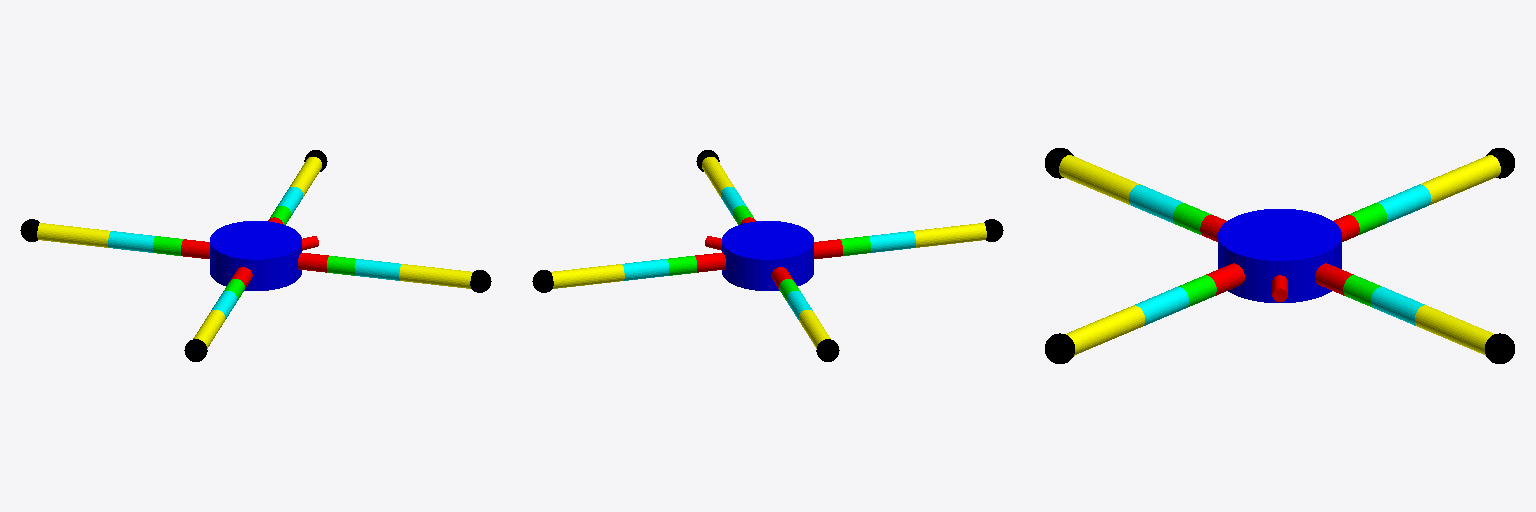
robot.urdf — quadruped:

<robot name="quadruped">

  <link name="body">
    <visual>
      <geometry>
        <cylinder radius="0.08" length="0.06"/>
      </geometry>
      <origin xyz="0 0 0"/>
      <material name="blue">
        <color rgba="0 0 1 1"/>
      </material>
    </visual>
    <collision>
      <geometry>
        <cylinder radius="0.08" length="0.06"/>
      </geometry>
      <origin xyz="0 0 0"/>
    </collision>
    <inertial>
      <mass value="0.01"/>
      <inertia ixx="0.0001" ixy="0.0" ixz="0.0" iyy="0.0001" iyz="0.0" izz="0.0001"/>
    </inertial>
  </link>


    <link name="h0">
    <visual>
      <geometry>
        <cylinder radius="0.01" length="0.12"/>
      </geometry>
      <origin rpy="0 1.5707963267948966 0" xyz="0.06 0  0" />
      <material name="red">
        <color rgba="1 0 0 1"/>
      </material>
    </visual>
    <collision>
      <geometry>
        <cylinder radius="0.01" length="0.12"/>
      </geometry>
      <origin rpy="0 1.5707963267948966 0" xyz="0.06 0 0" />
    </collision>
    <inertial>
      <mass value="0.1"/>
      <inertia ixx="0.0001" ixy="0.0" ixz="0.0" iyy="0.0001" iyz="0.0" izz="0.0001"/>
    </inertial>
  </link>

  <joint name="h0_to_body" type="fixed">
    <origin rpy="0 0 0" xyz="0 0 0"/>
    <parent link="body"/>
    <child link="h0"/>
  </joint>

  
  <link name="a0">
    <visual>
      <geometry>
        <cylinder radius="0.015" length="0.13"/>
      </geometry>
      <origin rpy="0 1.5707963267948966 0" xyz="0.065 0  0" />
      <material name="red">
        <color rgba="1 0 0 1"/>
      </material>
    </visual>
    <collision>
      <geometry>
        <cylinder radius="0.015" length="0.13"/>
      </geometry>
      <origin rpy="0 1.5707963267948966 0" xyz="0.065 0 0" />
    </collision>
    <inertial>
      <mass value="0.1"/>
      <inertia ixx="0.0001" ixy="0.0" ixz="0.0" iyy="0.0001" iyz="0.0" izz="0.0001"/>
    </inertial>
  </link>

  <joint name="a0_to_body" type="fixed">
    <origin rpy="0 0 0.7853981633974483" xyz="0 0 0"/>
    <parent link="body"/>
    <child link="a0"/>
  </joint>

  <!-- B -->

  <link name="b0">
    <visual>
      <geometry>
        <cylinder radius="0.015" length="0.05"/>
      </geometry>
      <origin rpy="0 1.5707963267948966 0" xyz="0.025 0 0" />
      <material name="green">
        <color rgba="0 1 0 1"/>
      </material>
    </visual>
    <collision>
      <geometry>
        <cylinder radius="0.015" length="0.05"/>
      </geometry>
      <origin rpy="0 1.5707963267948966 0" xyz="0.025 0 0" />
    </collision>
    <inertial>
      <mass value="0.1"/>
      <inertia ixx="0.0001" ixy="0.0" ixz="0.0" iyy="0.0001" iyz="0.0" izz="0.0001"/>
    </inertial>

  </link>

  <joint name="u0" type="revolute">
    <origin rpy="0 0 0" xyz="0.13 0 0"/>
    <parent link="a0"/>
    <child link="b0"/>
    <axis xyz="0 0 1"/>
    <limit effort="100" lower="-3.14" upper="3.14"  velocity="100"/>
  </joint>

  <link name="c0">
    <visual>
      <geometry>
        <cylinder radius="0.015" length="0.08"/>
      </geometry>
      <origin rpy="0 1.5707963267948966 0" xyz="0.04 0 0" />
      <material name="cyan">
        <color rgba="0 1 1 1"/>
      </material>
    </visual>
    <collision>
      <geometry>
        <cylinder radius="0.015" length="0.08"/>
      </geometry>
      <origin rpy="0 1.5707963267948966 0" xyz="0.04 0 0" />
    </collision>
    <inertial>
      <mass value="0.1"/>
      <inertia ixx="0.0001" ixy="0.0" ixz="0.0" iyy="0.0001" iyz="0.0" izz="0.0001"/>
    </inertial>

  </link>

  <joint name="v0" type="revolute">
    <origin rpy="0 0 0" xyz="0.05 0 0"/>
    <parent link="b0"/>
    <child link="c0"/>
    <axis xyz="0 1 0"/>
    <limit effort="100" lower="-3.14" upper="3.14"  velocity="100"/>
  </joint>

  <link name="d0">
    <visual>
      <geometry>
        <cylinder radius="0.015" length="0.14"/>
      </geometry>
      <origin rpy="0 1.5707963267948966 0" xyz="0.07 0 0" />
      <material name="jaune">
        <color rgba="1 1 0 1"/>
      </material>
    </visual>
    <collision>
      <geometry>
        <cylinder radius="0.015" length="0.14"/>
      </geometry>
      <origin rpy="0 1.5707963267948966 0" xyz="0.07 0 0" />
    </collision>
    <inertial>
      <mass value="0.1"/>
      <inertia ixx="0.0001" ixy="0.0" ixz="0.0" iyy="0.0001" iyz="0.0" izz="0.0001"/>
    </inertial>

  </link>

  <joint name="w0" type="revolute">
    <origin rpy="0 0 0" xyz="0.08 0 0"/>
    <parent link="c0"/>
    <child link="d0"/>
    <axis xyz="0 1 0"/>
    <limit effort="100" lower="-3.14"  upper="3.14"  velocity="100"/>
  </joint>

  <link name="e0">
    <visual>
      <geometry>
        <sphere radius="0.02"/>
      </geometry>
      <origin rpy="0 0 0" xyz="0 0 0" />
      <material name="noir">
        <color rgba="0 0 0 1"/>
      </material>
    </visual>
    <collision>
      <geometry>
        <sphere radius="0.02"/>
      </geometry>
      <origin rpy="0 0 0" xyz="0 0 0" />
    </collision>
    <inertial>
      <mass value="0.01"/>
      <inertia ixx="0.0001" ixy="0.0" ixz="0.0" iyy="0.0001" iyz="0.0" izz="0.0001"/>
    </inertial>

  </link>

  <joint name="x0" type="fixed">
    <origin rpy="0 0 0" xyz="0.14 0 0"/>
    <parent link="d0"/>
    <child link="e0"/>
  </joint>


    <link name="h1">
    <visual>
      <geometry>
        <cylinder radius="0.01" length="0.12"/>
      </geometry>
      <origin rpy="0 1.5707963267948966 0" xyz="0.06 0  0" />
      <material name="red">
        <color rgba="1 0 0 1"/>
      </material>
    </visual>
    <collision>
      <geometry>
        <cylinder radius="0.01" length="0.12"/>
      </geometry>
      <origin rpy="0 1.5707963267948966 0" xyz="0.06 0 0" />
    </collision>
    <inertial>
      <mass value="0.1"/>
      <inertia ixx="0.0001" ixy="0.0" ixz="0.0" iyy="0.0001" iyz="0.0" izz="0.0001"/>
    </inertial>
  </link>

  <joint name="h1_to_body" type="fixed">
    <origin rpy="0 0 0" xyz="0 0 0"/>
    <parent link="body"/>
    <child link="h1"/>
  </joint>

  
  <link name="a1">
    <visual>
      <geometry>
        <cylinder radius="0.015" length="0.13"/>
      </geometry>
      <origin rpy="0 1.5707963267948966 0" xyz="0.065 0  0" />
      <material name="red">
        <color rgba="1 0 0 1"/>
      </material>
    </visual>
    <collision>
      <geometry>
        <cylinder radius="0.015" length="0.13"/>
      </geometry>
      <origin rpy="0 1.5707963267948966 0" xyz="0.065 0 0" />
    </collision>
    <inertial>
      <mass value="0.1"/>
      <inertia ixx="0.0001" ixy="0.0" ixz="0.0" iyy="0.0001" iyz="0.0" izz="0.0001"/>
    </inertial>
  </link>

  <joint name="a1_to_body" type="fixed">
    <origin rpy="0 0 2.356194490192345" xyz="0 0 0"/>
    <parent link="body"/>
    <child link="a1"/>
  </joint>

  <!-- B -->

  <link name="b1">
    <visual>
      <geometry>
        <cylinder radius="0.015" length="0.05"/>
      </geometry>
      <origin rpy="0 1.5707963267948966 0" xyz="0.025 0 0" />
      <material name="green">
        <color rgba="0 1 0 1"/>
      </material>
    </visual>
    <collision>
      <geometry>
        <cylinder radius="0.015" length="0.05"/>
      </geometry>
      <origin rpy="0 1.5707963267948966 0" xyz="0.025 0 0" />
    </collision>
    <inertial>
      <mass value="0.1"/>
      <inertia ixx="0.0001" ixy="0.0" ixz="0.0" iyy="0.0001" iyz="0.0" izz="0.0001"/>
    </inertial>

  </link>

  <joint name="u1" type="revolute">
    <origin rpy="0 0 0" xyz="0.13 0 0"/>
    <parent link="a1"/>
    <child link="b1"/>
    <axis xyz="0 0 1"/>
    <limit effort="100" lower="-3.14" upper="3.14"  velocity="100"/>
  </joint>

  <link name="c1">
    <visual>
      <geometry>
        <cylinder radius="0.015" length="0.08"/>
      </geometry>
      <origin rpy="0 1.5707963267948966 0" xyz="0.04 0 0" />
      <material name="cyan">
        <color rgba="0 1 1 1"/>
      </material>
    </visual>
    <collision>
      <geometry>
        <cylinder radius="0.015" length="0.08"/>
      </geometry>
      <origin rpy="0 1.5707963267948966 0" xyz="0.04 0 0" />
    </collision>
    <inertial>
      <mass value="0.1"/>
      <inertia ixx="0.0001" ixy="0.0" ixz="0.0" iyy="0.0001" iyz="0.0" izz="0.0001"/>
    </inertial>

  </link>

  <joint name="v1" type="revolute">
    <origin rpy="0 0 0" xyz="0.05 0 0"/>
    <parent link="b1"/>
    <child link="c1"/>
    <axis xyz="0 1 0"/>
    <limit effort="100" lower="-3.14" upper="3.14"  velocity="100"/>
  </joint>

  <link name="d1">
    <visual>
      <geometry>
        <cylinder radius="0.015" length="0.14"/>
      </geometry>
      <origin rpy="0 1.5707963267948966 0" xyz="0.07 0 0" />
      <material name="jaune">
        <color rgba="1 1 0 1"/>
      </material>
    </visual>
    <collision>
      <geometry>
        <cylinder radius="0.015" length="0.14"/>
      </geometry>
      <origin rpy="0 1.5707963267948966 0" xyz="0.07 0 0" />
    </collision>
    <inertial>
      <mass value="0.1"/>
      <inertia ixx="0.0001" ixy="0.0" ixz="0.0" iyy="0.0001" iyz="0.0" izz="0.0001"/>
    </inertial>

  </link>

  <joint name="w1" type="revolute">
    <origin rpy="0 0 0" xyz="0.08 0 0"/>
    <parent link="c1"/>
    <child link="d1"/>
    <axis xyz="0 1 0"/>
    <limit effort="100" lower="-3.14"  upper="3.14"  velocity="100"/>
  </joint>

  <link name="e1">
    <visual>
      <geometry>
        <sphere radius="0.02"/>
      </geometry>
      <origin rpy="0 0 0" xyz="0 0 0" />
      <material name="noir">
        <color rgba="0 0 0 1"/>
      </material>
    </visual>
    <collision>
      <geometry>
        <sphere radius="0.02"/>
      </geometry>
      <origin rpy="0 0 0" xyz="0 0 0" />
    </collision>
    <inertial>
      <mass value="0.01"/>
      <inertia ixx="0.0001" ixy="0.0" ixz="0.0" iyy="0.0001" iyz="0.0" izz="0.0001"/>
    </inertial>

  </link>

  <joint name="x1" type="fixed">
    <origin rpy="0 0 0" xyz="0.14 0 0"/>
    <parent link="d1"/>
    <child link="e1"/>
  </joint>


    <link name="h2">
    <visual>
      <geometry>
        <cylinder radius="0.01" length="0.12"/>
      </geometry>
      <origin rpy="0 1.5707963267948966 0" xyz="0.06 0  0" />
      <material name="red">
        <color rgba="1 0 0 1"/>
      </material>
    </visual>
    <collision>
      <geometry>
        <cylinder radius="0.01" length="0.12"/>
      </geometry>
      <origin rpy="0 1.5707963267948966 0" xyz="0.06 0 0" />
    </collision>
    <inertial>
      <mass value="0.1"/>
      <inertia ixx="0.0001" ixy="0.0" ixz="0.0" iyy="0.0001" iyz="0.0" izz="0.0001"/>
    </inertial>
  </link>

  <joint name="h2_to_body" type="fixed">
    <origin rpy="0 0 0" xyz="0 0 0"/>
    <parent link="body"/>
    <child link="h2"/>
  </joint>

  
  <link name="a2">
    <visual>
      <geometry>
        <cylinder radius="0.015" length="0.13"/>
      </geometry>
      <origin rpy="0 1.5707963267948966 0" xyz="0.065 0  0" />
      <material name="red">
        <color rgba="1 0 0 1"/>
      </material>
    </visual>
    <collision>
      <geometry>
        <cylinder radius="0.015" length="0.13"/>
      </geometry>
      <origin rpy="0 1.5707963267948966 0" xyz="0.065 0 0" />
    </collision>
    <inertial>
      <mass value="0.1"/>
      <inertia ixx="0.0001" ixy="0.0" ixz="0.0" iyy="0.0001" iyz="0.0" izz="0.0001"/>
    </inertial>
  </link>

  <joint name="a2_to_body" type="fixed">
    <origin rpy="0 0 3.9269908169872414" xyz="0 0 0"/>
    <parent link="body"/>
    <child link="a2"/>
  </joint>

  <!-- B -->

  <link name="b2">
    <visual>
      <geometry>
        <cylinder radius="0.015" length="0.05"/>
      </geometry>
      <origin rpy="0 1.5707963267948966 0" xyz="0.025 0 0" />
      <material name="green">
        <color rgba="0 1 0 1"/>
      </material>
    </visual>
    <collision>
      <geometry>
        <cylinder radius="0.015" length="0.05"/>
      </geometry>
      <origin rpy="0 1.5707963267948966 0" xyz="0.025 0 0" />
    </collision>
    <inertial>
      <mass value="0.1"/>
      <inertia ixx="0.0001" ixy="0.0" ixz="0.0" iyy="0.0001" iyz="0.0" izz="0.0001"/>
    </inertial>

  </link>

  <joint name="u2" type="revolute">
    <origin rpy="0 0 0" xyz="0.13 0 0"/>
    <parent link="a2"/>
    <child link="b2"/>
    <axis xyz="0 0 1"/>
    <limit effort="100" lower="-3.14" upper="3.14"  velocity="100"/>
  </joint>

  <link name="c2">
    <visual>
      <geometry>
        <cylinder radius="0.015" length="0.08"/>
      </geometry>
      <origin rpy="0 1.5707963267948966 0" xyz="0.04 0 0" />
      <material name="cyan">
        <color rgba="0 1 1 1"/>
      </material>
    </visual>
    <collision>
      <geometry>
        <cylinder radius="0.015" length="0.08"/>
      </geometry>
      <origin rpy="0 1.5707963267948966 0" xyz="0.04 0 0" />
    </collision>
    <inertial>
      <mass value="0.1"/>
      <inertia ixx="0.0001" ixy="0.0" ixz="0.0" iyy="0.0001" iyz="0.0" izz="0.0001"/>
    </inertial>

  </link>

  <joint name="v2" type="revolute">
    <origin rpy="0 0 0" xyz="0.05 0 0"/>
    <parent link="b2"/>
    <child link="c2"/>
    <axis xyz="0 1 0"/>
    <limit effort="100" lower="-3.14" upper="3.14"  velocity="100"/>
  </joint>

  <link name="d2">
    <visual>
      <geometry>
        <cylinder radius="0.015" length="0.14"/>
      </geometry>
      <origin rpy="0 1.5707963267948966 0" xyz="0.07 0 0" />
      <material name="jaune">
        <color rgba="1 1 0 1"/>
      </material>
    </visual>
    <collision>
      <geometry>
        <cylinder radius="0.015" length="0.14"/>
      </geometry>
      <origin rpy="0 1.5707963267948966 0" xyz="0.07 0 0" />
    </collision>
    <inertial>
      <mass value="0.1"/>
      <inertia ixx="0.0001" ixy="0.0" ixz="0.0" iyy="0.0001" iyz="0.0" izz="0.0001"/>
    </inertial>

  </link>

  <joint name="w2" type="revolute">
    <origin rpy="0 0 0" xyz="0.08 0 0"/>
    <parent link="c2"/>
    <child link="d2"/>
    <axis xyz="0 1 0"/>
    <limit effort="100" lower="-3.14"  upper="3.14"  velocity="100"/>
  </joint>

  <link name="e2">
    <visual>
      <geometry>
        <sphere radius="0.02"/>
      </geometry>
      <origin rpy="0 0 0" xyz="0 0 0" />
      <material name="noir">
        <color rgba="0 0 0 1"/>
      </material>
    </visual>
    <collision>
      <geometry>
        <sphere radius="0.02"/>
      </geometry>
      <origin rpy="0 0 0" xyz="0 0 0" />
    </collision>
    <inertial>
      <mass value="0.01"/>
      <inertia ixx="0.0001" ixy="0.0" ixz="0.0" iyy="0.0001" iyz="0.0" izz="0.0001"/>
    </inertial>

  </link>

  <joint name="x2" type="fixed">
    <origin rpy="0 0 0" xyz="0.14 0 0"/>
    <parent link="d2"/>
    <child link="e2"/>
  </joint>


    <link name="h3">
    <visual>
      <geometry>
        <cylinder radius="0.01" length="0.12"/>
      </geometry>
      <origin rpy="0 1.5707963267948966 0" xyz="0.06 0  0" />
      <material name="red">
        <color rgba="1 0 0 1"/>
      </material>
    </visual>
    <collision>
      <geometry>
        <cylinder radius="0.01" length="0.12"/>
      </geometry>
      <origin rpy="0 1.5707963267948966 0" xyz="0.06 0 0" />
    </collision>
    <inertial>
      <mass value="0.1"/>
      <inertia ixx="0.0001" ixy="0.0" ixz="0.0" iyy="0.0001" iyz="0.0" izz="0.0001"/>
    </inertial>
  </link>

  <joint name="h3_to_body" type="fixed">
    <origin rpy="0 0 0" xyz="0 0 0"/>
    <parent link="body"/>
    <child link="h3"/>
  </joint>

  
  <link name="a3">
    <visual>
      <geometry>
        <cylinder radius="0.015" length="0.13"/>
      </geometry>
      <origin rpy="0 1.5707963267948966 0" xyz="0.065 0  0" />
      <material name="red">
        <color rgba="1 0 0 1"/>
      </material>
    </visual>
    <collision>
      <geometry>
        <cylinder radius="0.015" length="0.13"/>
      </geometry>
      <origin rpy="0 1.5707963267948966 0" xyz="0.065 0 0" />
    </collision>
    <inertial>
      <mass value="0.1"/>
      <inertia ixx="0.0001" ixy="0.0" ixz="0.0" iyy="0.0001" iyz="0.0" izz="0.0001"/>
    </inertial>
  </link>

  <joint name="a3_to_body" type="fixed">
    <origin rpy="0 0 5.497787143782138" xyz="0 0 0"/>
    <parent link="body"/>
    <child link="a3"/>
  </joint>

  <!-- B -->

  <link name="b3">
    <visual>
      <geometry>
        <cylinder radius="0.015" length="0.05"/>
      </geometry>
      <origin rpy="0 1.5707963267948966 0" xyz="0.025 0 0" />
      <material name="green">
        <color rgba="0 1 0 1"/>
      </material>
    </visual>
    <collision>
      <geometry>
        <cylinder radius="0.015" length="0.05"/>
      </geometry>
      <origin rpy="0 1.5707963267948966 0" xyz="0.025 0 0" />
    </collision>
    <inertial>
      <mass value="0.1"/>
      <inertia ixx="0.0001" ixy="0.0" ixz="0.0" iyy="0.0001" iyz="0.0" izz="0.0001"/>
    </inertial>

  </link>

  <joint name="u3" type="revolute">
    <origin rpy="0 0 0" xyz="0.13 0 0"/>
    <parent link="a3"/>
    <child link="b3"/>
    <axis xyz="0 0 1"/>
    <limit effort="100" lower="-3.14" upper="3.14"  velocity="100"/>
  </joint>

  <link name="c3">
    <visual>
      <geometry>
        <cylinder radius="0.015" length="0.08"/>
      </geometry>
      <origin rpy="0 1.5707963267948966 0" xyz="0.04 0 0" />
      <material name="cyan">
        <color rgba="0 1 1 1"/>
      </material>
    </visual>
    <collision>
      <geometry>
        <cylinder radius="0.015" length="0.08"/>
      </geometry>
      <origin rpy="0 1.5707963267948966 0" xyz="0.04 0 0" />
    </collision>
    <inertial>
      <mass value="0.1"/>
      <inertia ixx="0.0001" ixy="0.0" ixz="0.0" iyy="0.0001" iyz="0.0" izz="0.0001"/>
    </inertial>

  </link>

  <joint name="v3" type="revolute">
    <origin rpy="0 0 0" xyz="0.05 0 0"/>
    <parent link="b3"/>
    <child link="c3"/>
    <axis xyz="0 1 0"/>
    <limit effort="100" lower="-3.14" upper="3.14"  velocity="100"/>
  </joint>

  <link name="d3">
    <visual>
      <geometry>
        <cylinder radius="0.015" length="0.14"/>
      </geometry>
      <origin rpy="0 1.5707963267948966 0" xyz="0.07 0 0" />
      <material name="jaune">
        <color rgba="1 1 0 1"/>
      </material>
    </visual>
    <collision>
      <geometry>
        <cylinder radius="0.015" length="0.14"/>
      </geometry>
      <origin rpy="0 1.5707963267948966 0" xyz="0.07 0 0" />
    </collision>
    <inertial>
      <mass value="0.1"/>
      <inertia ixx="0.0001" ixy="0.0" ixz="0.0" iyy="0.0001" iyz="0.0" izz="0.0001"/>
    </inertial>

  </link>

  <joint name="w3" type="revolute">
    <origin rpy="0 0 0" xyz="0.08 0 0"/>
    <parent link="c3"/>
    <child link="d3"/>
    <axis xyz="0 1 0"/>
    <limit effort="100" lower="-3.14"  upper="3.14"  velocity="100"/>
  </joint>

  <link name="e3">
    <visual>
      <geometry>
        <sphere radius="0.02"/>
      </geometry>
      <origin rpy="0 0 0" xyz="0 0 0" />
      <material name="noir">
        <color rgba="0 0 0 1"/>
      </material>
    </visual>
    <collision>
      <geometry>
        <sphere radius="0.02"/>
      </geometry>
      <origin rpy="0 0 0" xyz="0 0 0" />
    </collision>
    <inertial>
      <mass value="0.01"/>
      <inertia ixx="0.0001" ixy="0.0" ixz="0.0" iyy="0.0001" iyz="0.0" izz="0.0001"/>
    </inertial>

  </link>

  <joint name="x3" type="fixed">
    <origin rpy="0 0 0" xyz="0.14 0 0"/>
    <parent link="d3"/>
    <child link="e3"/>
  </joint>

</robot>

--- Facts derived from the render (not from the file) ---
3 views of the same robot in one strip: view 1: azimuth 30°, elevation 25°; view 2: azimuth 150°, elevation 25°; view 3: azimuth 270°, elevation 25° (orthographic).
Model quadruped with 25 links and 24 joints (12 revolute, 12 fixed), rooted at body, posed all joints at 0.
Links seen in each view (by area): view 1: body, d3, d1, c1, c3, d0, d2; view 2: body, d0, d2, c2, c0, d3, d1; view 3: body, d1, d2, d0, d3, c1, c2, c0, c3, e0, e3, a0 (+5 smaller).
Link boxes in pixels (x1,y1,x2,y2): body: [210, 221, 301, 290]; d3: [399, 264, 472, 288]; d1: [37, 223, 110, 247]; c1: [108, 231, 154, 252]; c3: [355, 259, 401, 280]; d0: [289, 157, 321, 196]; d2: [193, 310, 224, 348]; body: [722, 221, 813, 290]; d0: [551, 264, 624, 288]; d2: [913, 223, 986, 247]; c2: [869, 231, 915, 252]; c0: [622, 259, 668, 280]; d3: [702, 157, 734, 196]; d1: [799, 310, 830, 348]; body: [1218, 209, 1341, 302]; d1: [1419, 155, 1500, 204]; d2: [1059, 155, 1140, 204]; d0: [1415, 305, 1493, 355]; d3: [1066, 305, 1144, 355]; c1: [1377, 184, 1430, 224]; c2: [1129, 184, 1182, 224]; c0: [1371, 287, 1424, 325]; c3: [1135, 287, 1188, 325]; e0: [1485, 333, 1514, 363]; e3: [1045, 333, 1074, 363]; a0: [1315, 263, 1353, 295].
Size in the robot's own frame: 0.6057 by 0.6057 by 0.06 metres.
Geometry: primitives only (box / cylinder / sphere), no mesh files.
